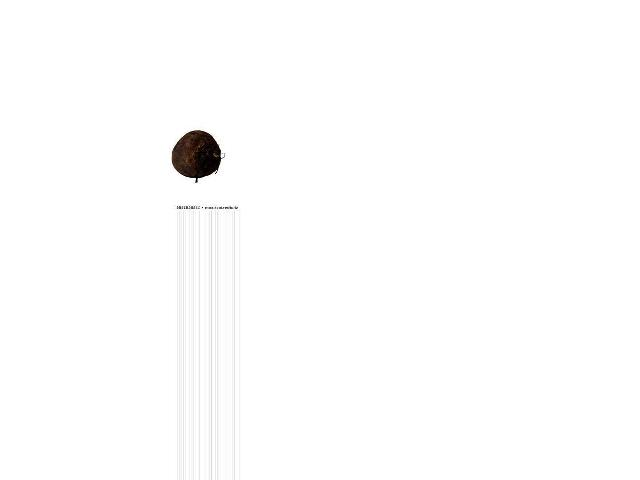beet: (170, 131, 219, 177)
